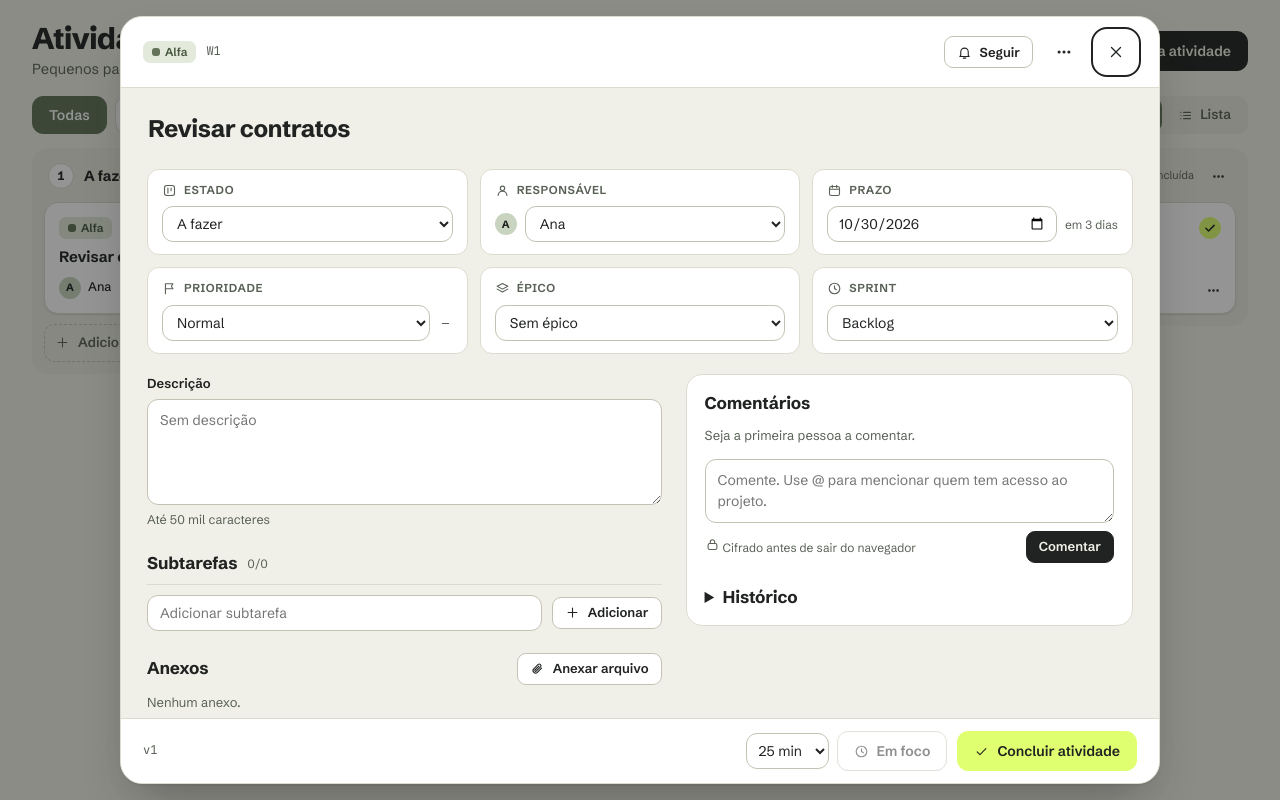
Test case: activity card › explains a conflicting edit and keeps the person's text on request
Replace the text in the field named "Título" with "Outro título" at coordinates (632, 129), box top-left (139, 110), bottom-right (1125, 149)
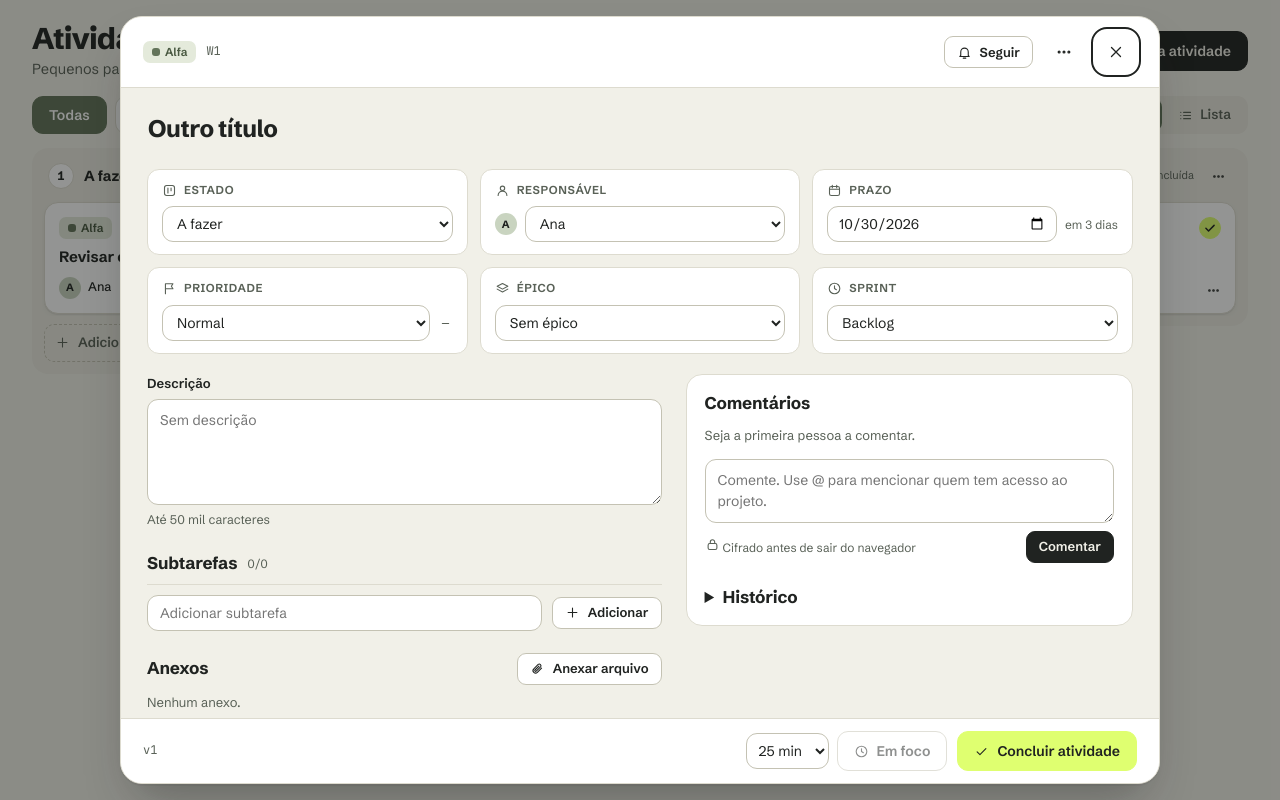
Leave the field named "Título", box top-left (139, 110), bottom-right (1125, 149)
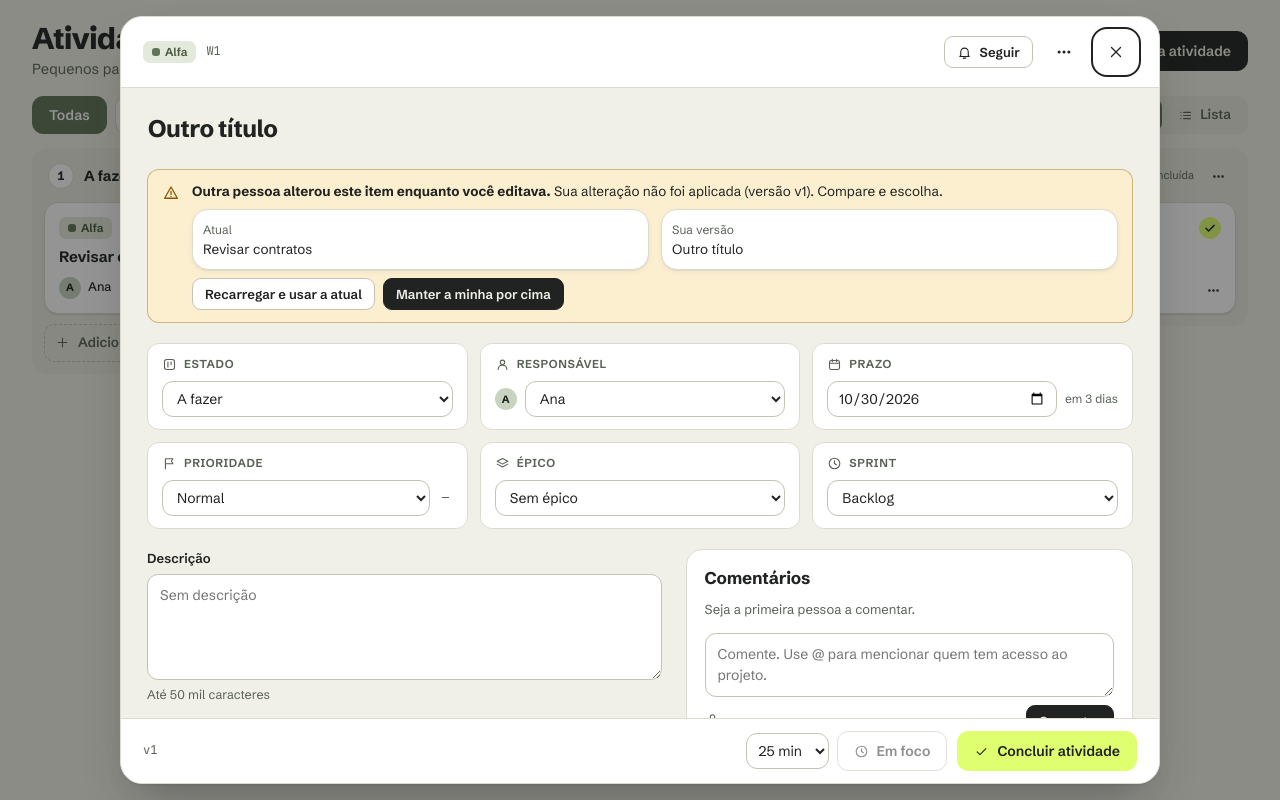
Expected: the text "Outra pessoa alterou este item enquanto você editava." is shown, top-left (192, 183), bottom-right (551, 199)
Click the button "Recarregar e usar a atual" at coordinates (283, 294), box top-left (192, 278), bottom-right (375, 310)
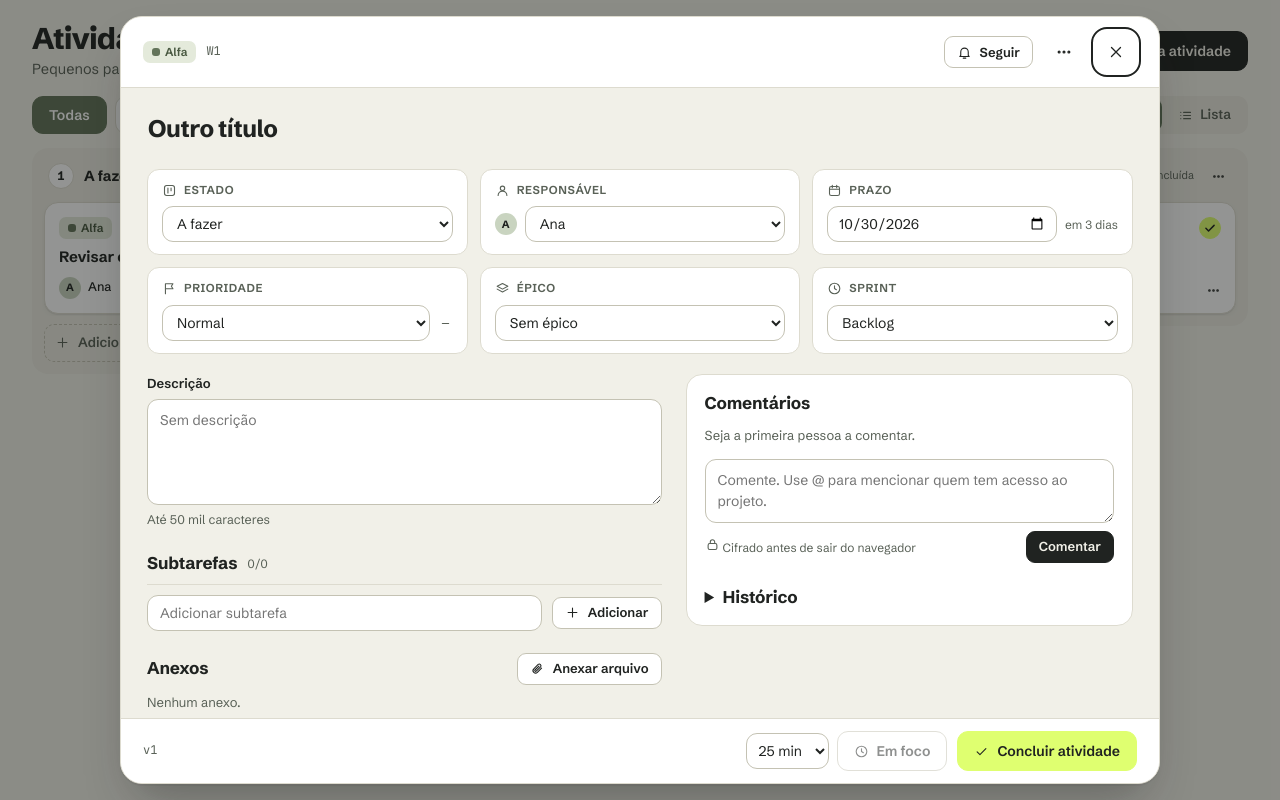
Expected: the text "Outra pessoa alterou" is gone
